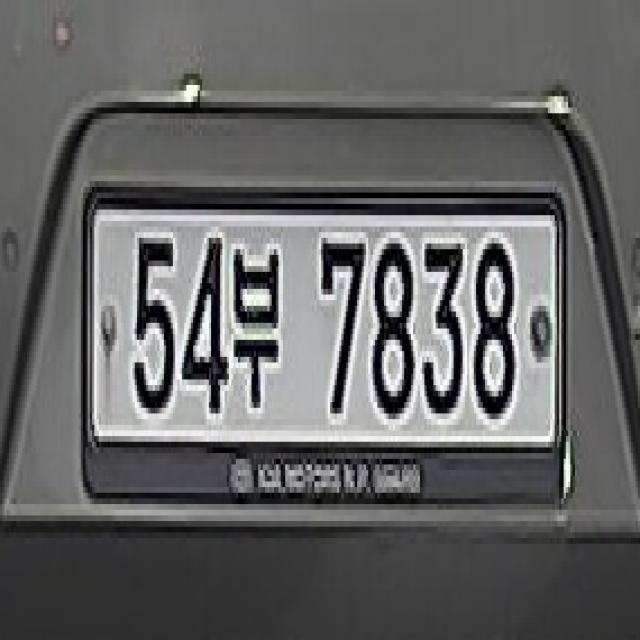3: (420, 226, 472, 424)
4: (184, 227, 231, 419)
5: (121, 210, 182, 413)
7: (317, 226, 368, 424)
8: (470, 227, 534, 430), (370, 221, 416, 425)
bu: (227, 210, 283, 424)
license_plate: (77, 187, 570, 532)
